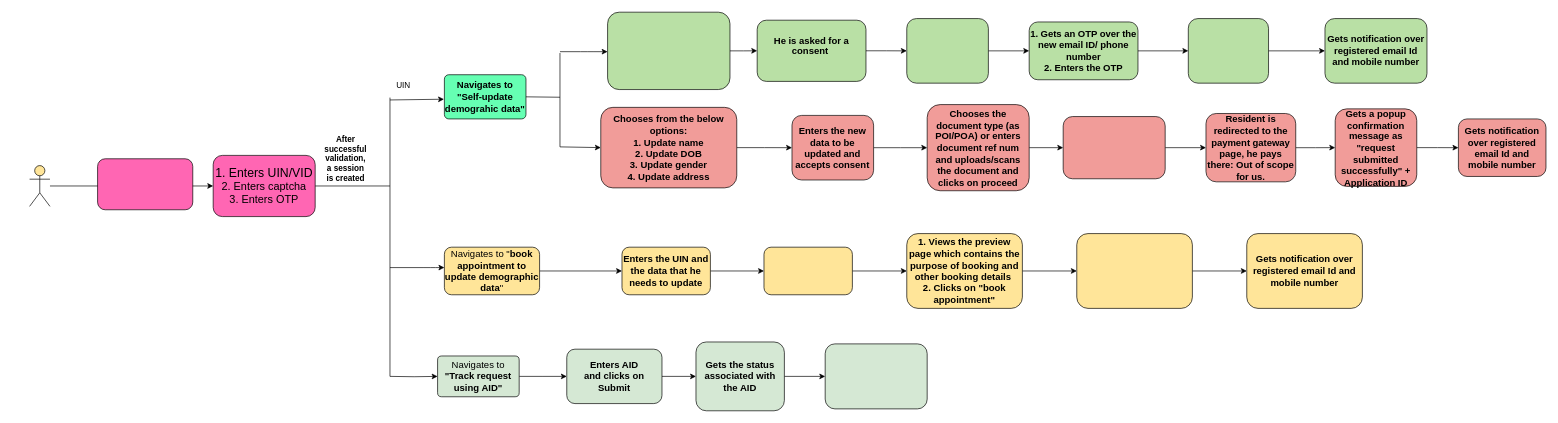
The diagram is 1558 pixels wide and 423 high, and some of its shapes have lost their labels. Here are the shapes that lost their labels. From the top down, the centre of each, then its label:
point (668, 50): Chooses from the below options: 1. Update phone number 2. Update email ID
point (947, 50): Enters the new email ID/ phone number
point (1228, 50): Email ID/phone number is updated
point (1113, 147): Views the final preview page, accepts consent and clicks on proceed
point (39, 185): The resident
point (145, 184): Navigates to "manage UIN/VID"
point (807, 271): Chooses the date, and time slot
point (1134, 270): Gets a confirmation page with details about the booking
point (876, 376): Gets a notification of the transaction over registered email Id & phone number
